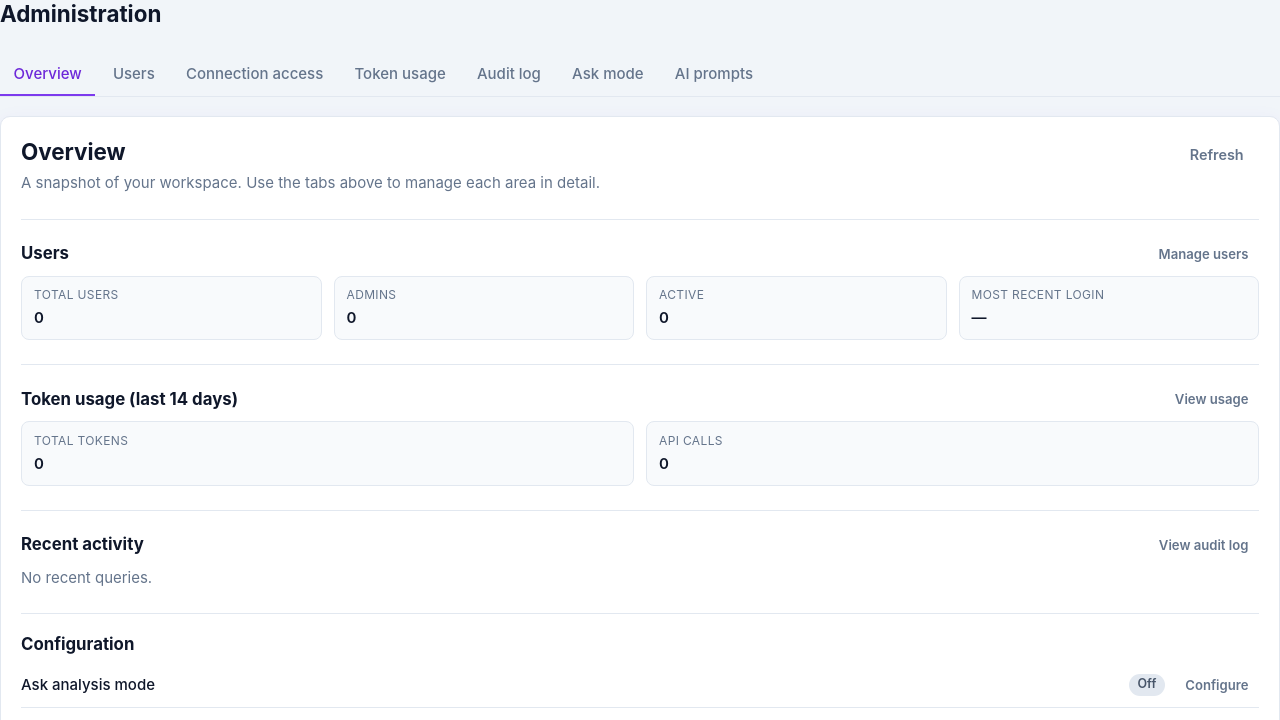
it: AdminPage › switches the visible section when a tab is clicked
Click the tab "Users": coordinates (134, 75) [99,54,168,96]
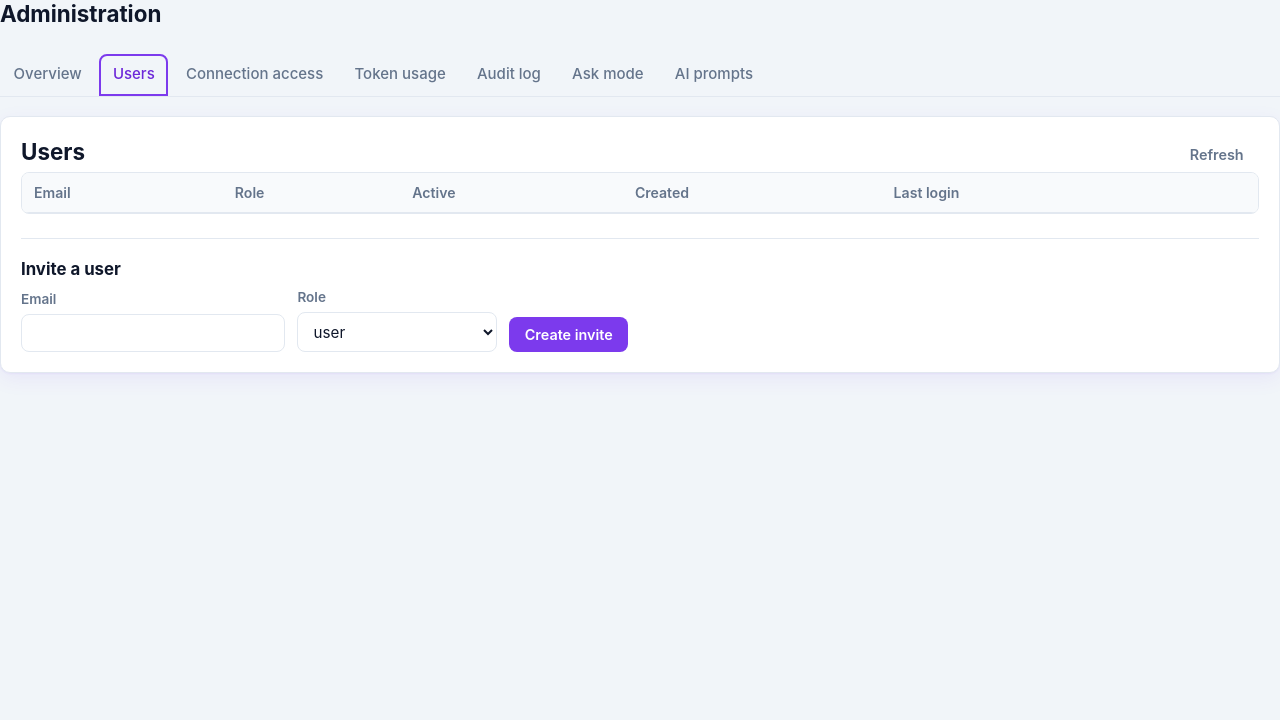
Expected: the heading "Invite a user" is shown, [21,259,121,279]
